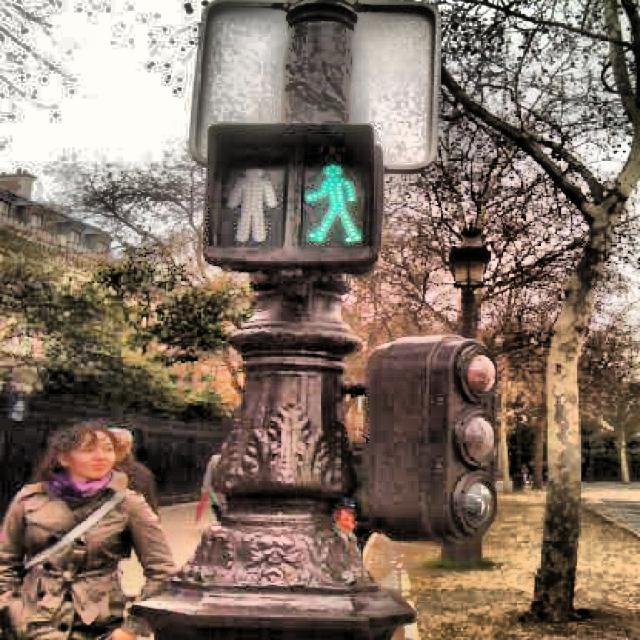semaforo pedestre: (156, 89, 424, 294)
